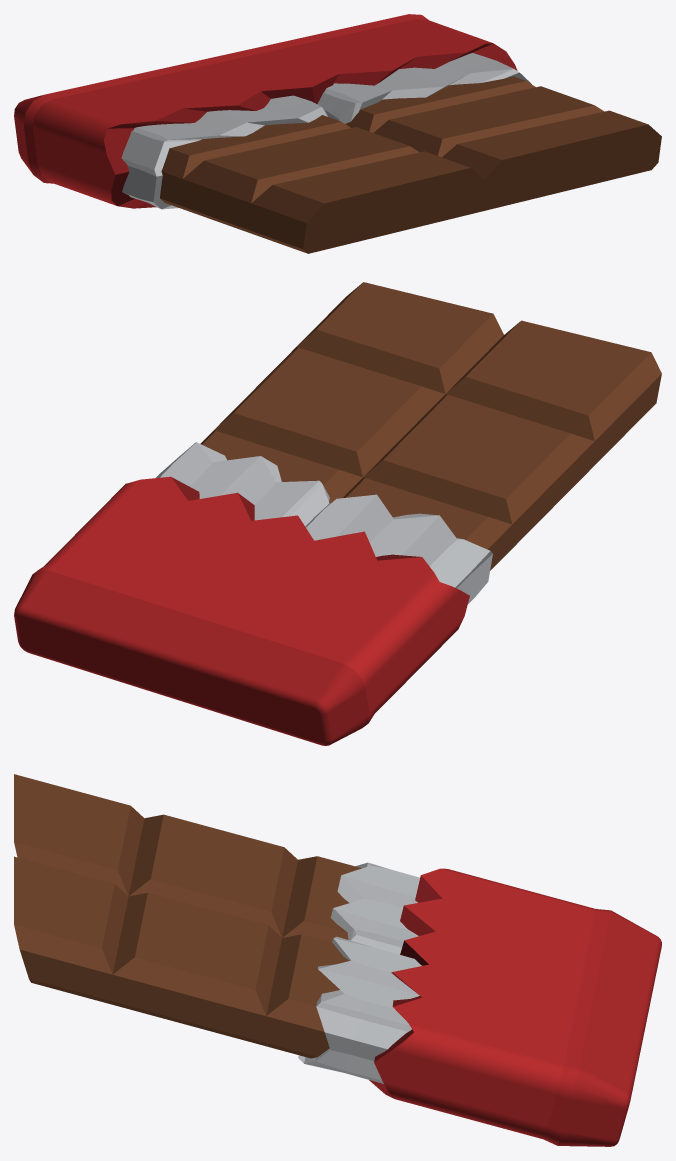
The model's file is Cosmetic_Chocolate_Bar.glb.
3 views of the same model, one above another, from view 1: azimuth 30°, elevation 25°; view 2: azimuth 150°, elevation 25°; view 3: azimuth 270°, elevation 25° (orthographic). The views are drawn at different scales.
Visible parts, largest first — view 1: Chocolate_Bar; view 2: Chocolate_Bar; view 3: Chocolate_Bar.
Boxes of the visible parts, x1,y1,x2,y2 form: Chocolate_Bar: (14,14,661,253); Chocolate_Bar: (14,282,661,745); Chocolate_Bar: (14,774,661,1146).
Size of the model in its own units: 0.1567 by 0.0748 by 0.2198.
